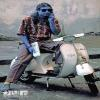motorcycles: (36, 38, 99, 94)
